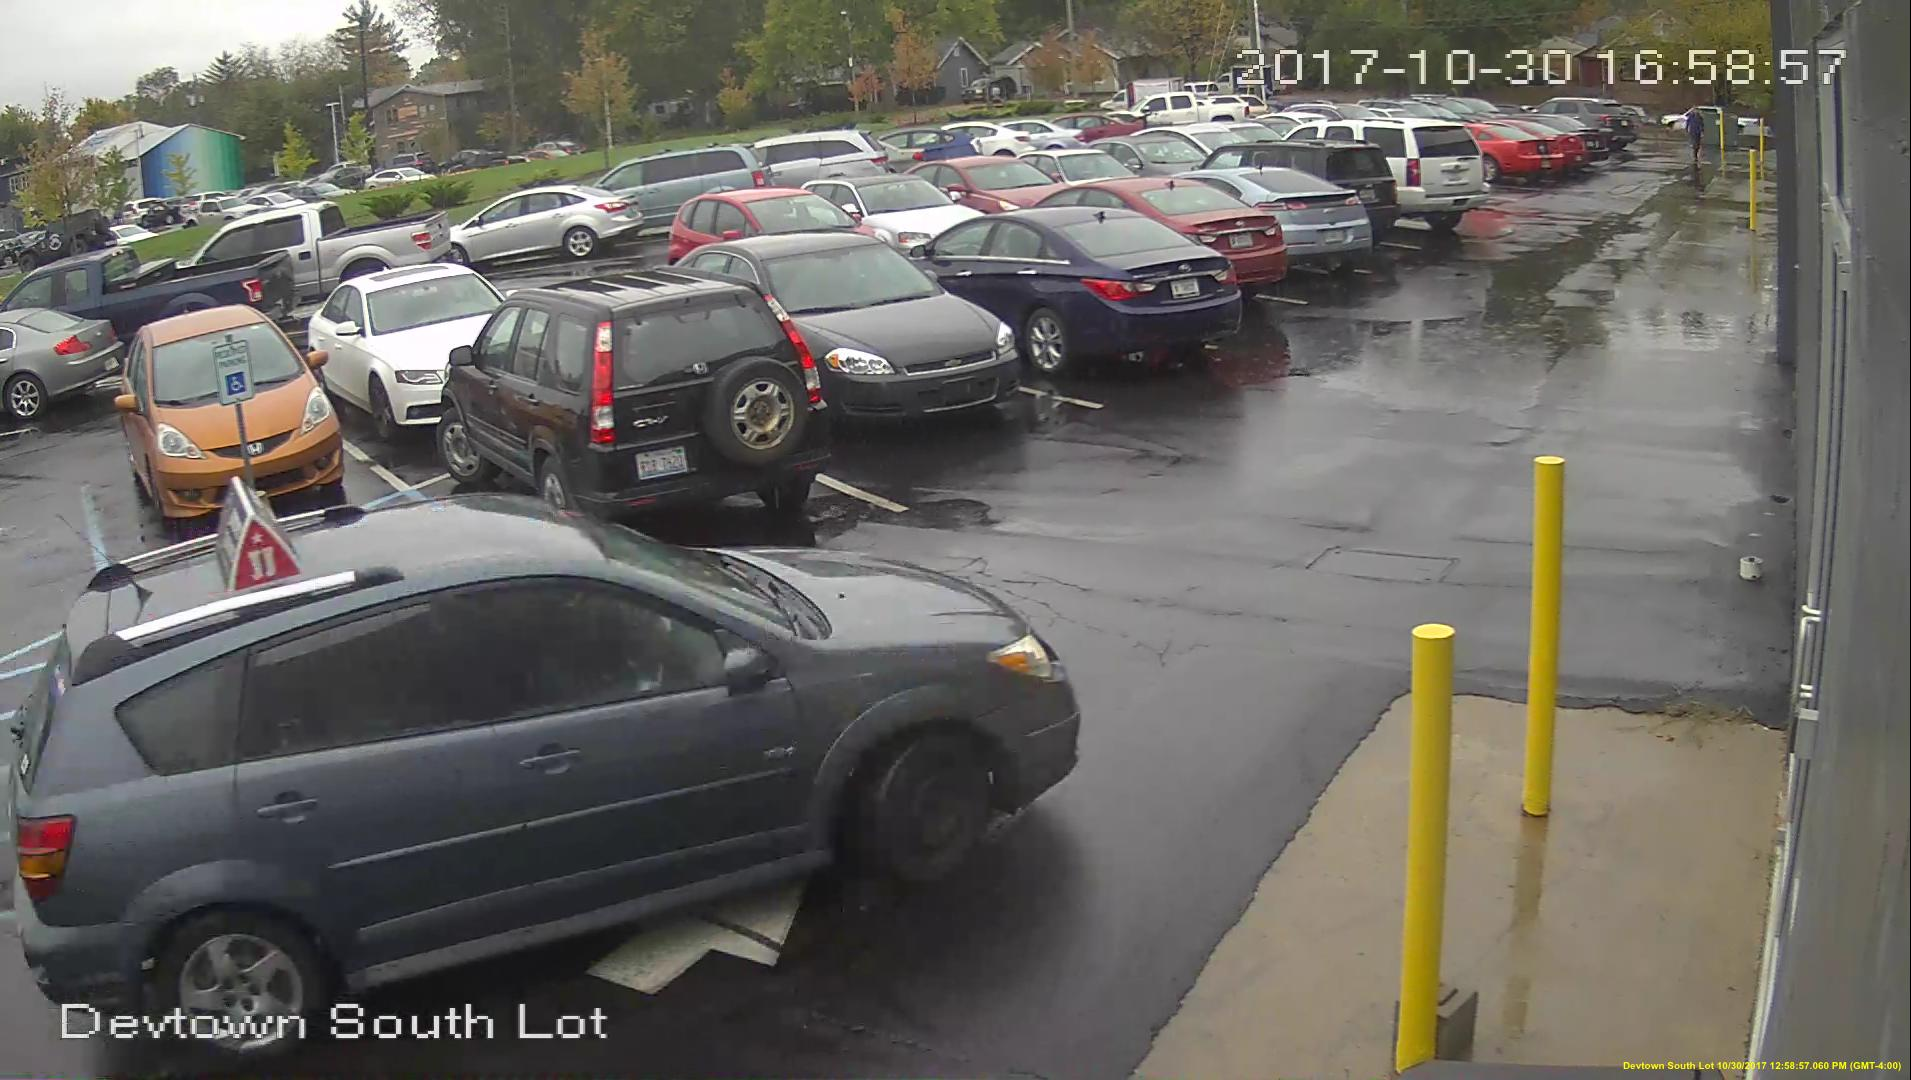jimmy_johns: (213, 476, 304, 598)
